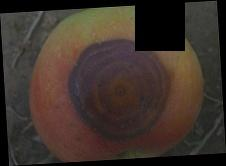rotten apple: (27, 7, 209, 159)
